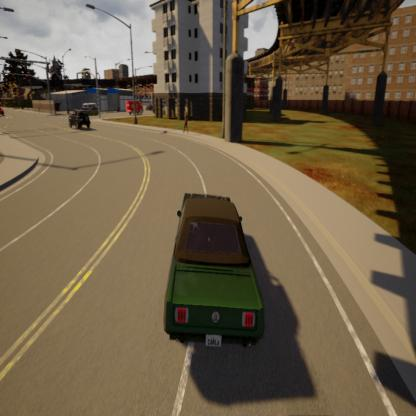Cars: (162, 166, 269, 391), (69, 102, 97, 143)
Pedestrian: (179, 93, 192, 142)
